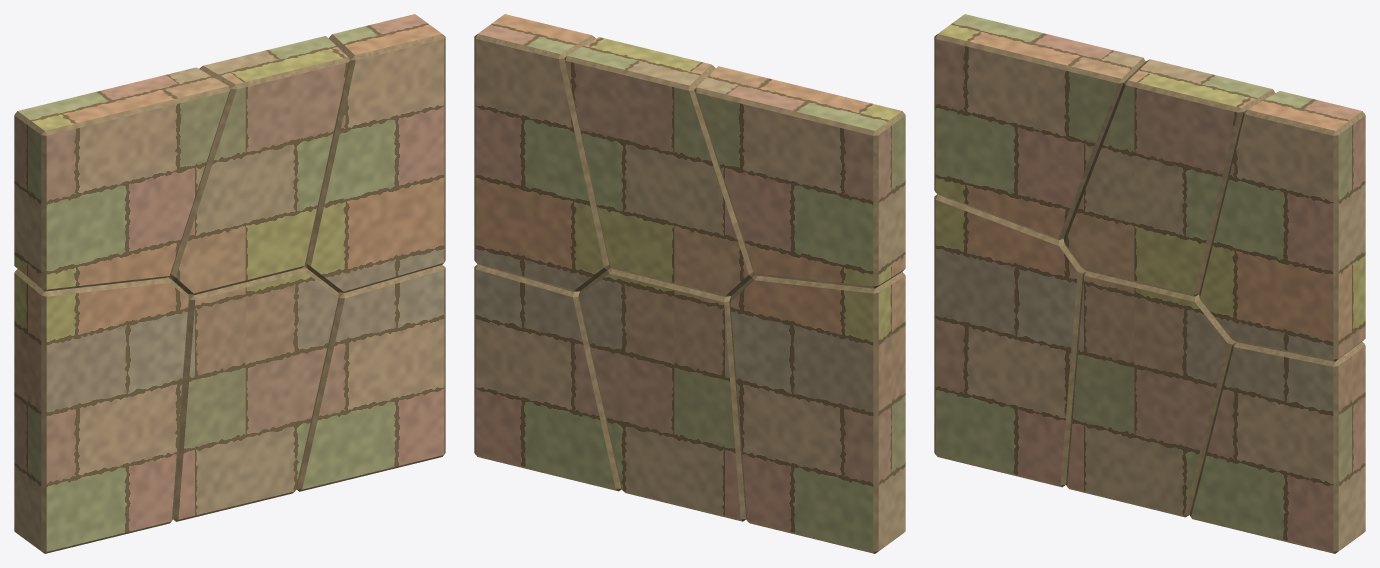
The model's file is Kit_Stone_Wall_Fractured.glb.
3 renders of one model, left to right at view 1: azimuth 30°, elevation 25°; view 2: azimuth 150°, elevation 25°; view 3: azimuth 330°, elevation 25°, orthographic.
Visible parts, largest first — view 1: Kit_Stone_Wall_frag_01, Kit_Stone_Wall_frag_02, Kit_Stone_Wall_frag_03, Kit_Stone_Wall_frag_06, Kit_Stone_Wall_frag_04, Kit_Stone_Wall_frag_05; view 2: Kit_Stone_Wall_frag_01, Kit_Stone_Wall_frag_02, Kit_Stone_Wall_frag_04, Kit_Stone_Wall_frag_03, Kit_Stone_Wall_frag_06, Kit_Stone_Wall_frag_05; view 3: Kit_Stone_Wall_frag_06, Kit_Stone_Wall_frag_01, Kit_Stone_Wall_frag_02, Kit_Stone_Wall_frag_03, Kit_Stone_Wall_frag_04, Kit_Stone_Wall_frag_05.
Part boxes in pixels (x1,y1,x2,y2): Kit_Stone_Wall_frag_01: (14, 269, 189, 553); Kit_Stone_Wall_frag_02: (14, 67, 230, 291); Kit_Stone_Wall_frag_03: (173, 266, 339, 521); Kit_Stone_Wall_frag_06: (304, 14, 445, 293); Kit_Stone_Wall_frag_04: (168, 36, 350, 295); Kit_Stone_Wall_frag_05: (296, 265, 445, 491); Kit_Stone_Wall_frag_01: (729, 271, 905, 553); Kit_Stone_Wall_frag_02: (694, 66, 905, 288); Kit_Stone_Wall_frag_04: (564, 37, 755, 296); Kit_Stone_Wall_frag_03: (578, 267, 746, 521); Kit_Stone_Wall_frag_06: (474, 14, 610, 292); Kit_Stone_Wall_frag_05: (474, 264, 621, 491); Kit_Stone_Wall_frag_06: (1199, 91, 1365, 361); Kit_Stone_Wall_frag_01: (934, 194, 1085, 487); Kit_Stone_Wall_frag_02: (934, 14, 1145, 239); Kit_Stone_Wall_frag_03: (1066, 271, 1235, 517); Kit_Stone_Wall_frag_04: (1063, 59, 1275, 296); Kit_Stone_Wall_frag_05: (1189, 341, 1365, 553).
Size of what is drawn, in the model's own units: 3 by 3 by 0.4.
Materials: 2 (2 with a texture image).
